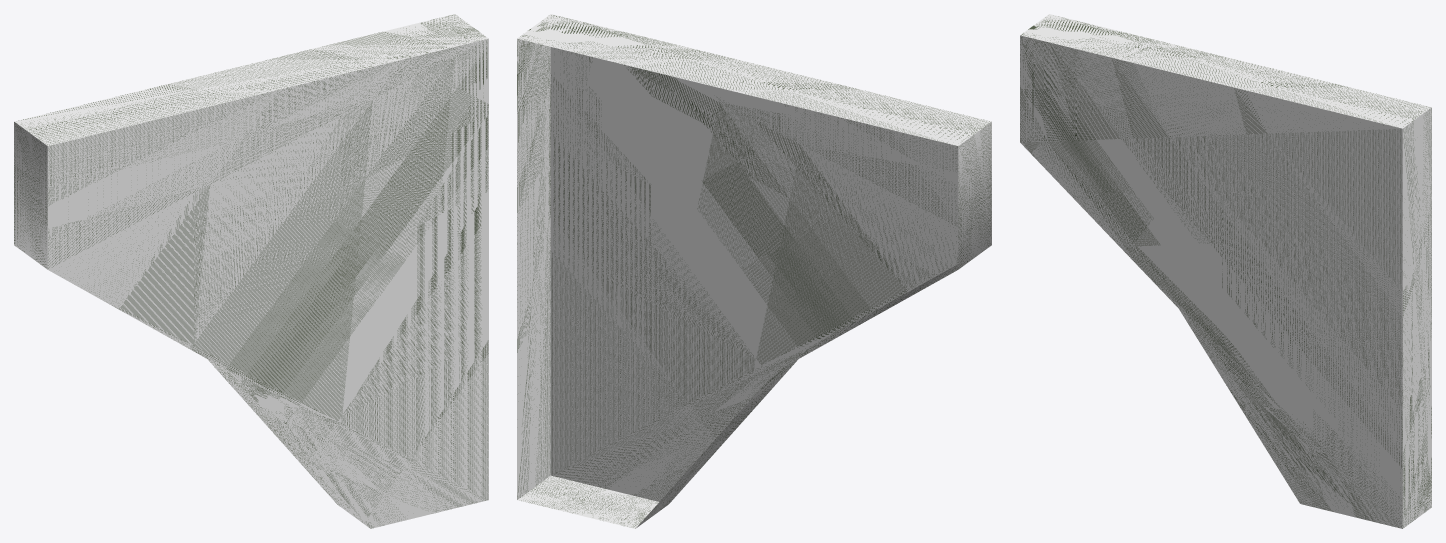
File: original-47.obj
3 views of the same model, side by side, from view 1: azimuth 30°, elevation 25°; view 2: azimuth 150°, elevation 25°; view 3: azimuth 330°, elevation 25° (orthographic). The views are drawn at different scales.
Visible parts, largest first — view 1: mesh2/mesh2-geometry/material_4/component_6#mesh2-geometry; view 2: mesh2/mesh2-geometry/material_4/component_6#mesh2-geometry; view 3: mesh2/mesh2-geometry/material_4/component_6#mesh2-geometry.
Boxes of the visible parts, box(x1,y1,x2,y2) form: mesh2/mesh2-geometry/material_4/component_6#mesh2-geometry: box(14, 14, 488, 528); mesh2/mesh2-geometry/material_4/component_6#mesh2-geometry: box(517, 14, 991, 528); mesh2/mesh2-geometry/material_4/component_6#mesh2-geometry: box(1020, 14, 1431, 528).
Bounding box in the file's own units: 0.0503 × 0.0503 × 0.00665.
